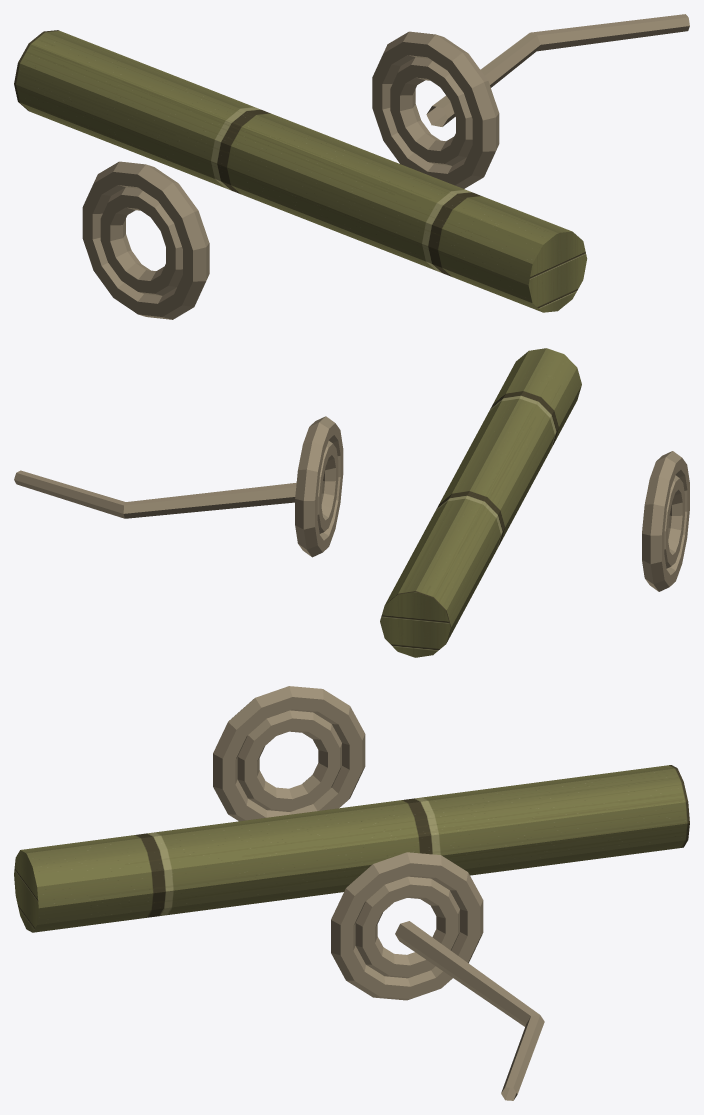
File: rung-tre-day-chuoi-buoc.glb
3 views of the same model, one above another, from view 1: azimuth 30°, elevation 25°; view 2: azimuth 150°, elevation 25°; view 3: azimuth 270°, elevation 25° (orthographic). The views are drawn at different scales.
Parts seen in each view (by area): view 1: rung-tre-day-chuoi-buoc; view 2: rung-tre-day-chuoi-buoc; view 3: rung-tre-day-chuoi-buoc.
Part boxes in pixels (x1,y1,x2,y2): rung-tre-day-chuoi-buoc: (14,14,689,319); rung-tre-day-chuoi-buoc: (14,348,689,657); rung-tre-day-chuoi-buoc: (14,686,689,1100).
Bounding box in the file's own units: 1.47 × 0.312 × 1.29.
2 materials, 1 textured.
